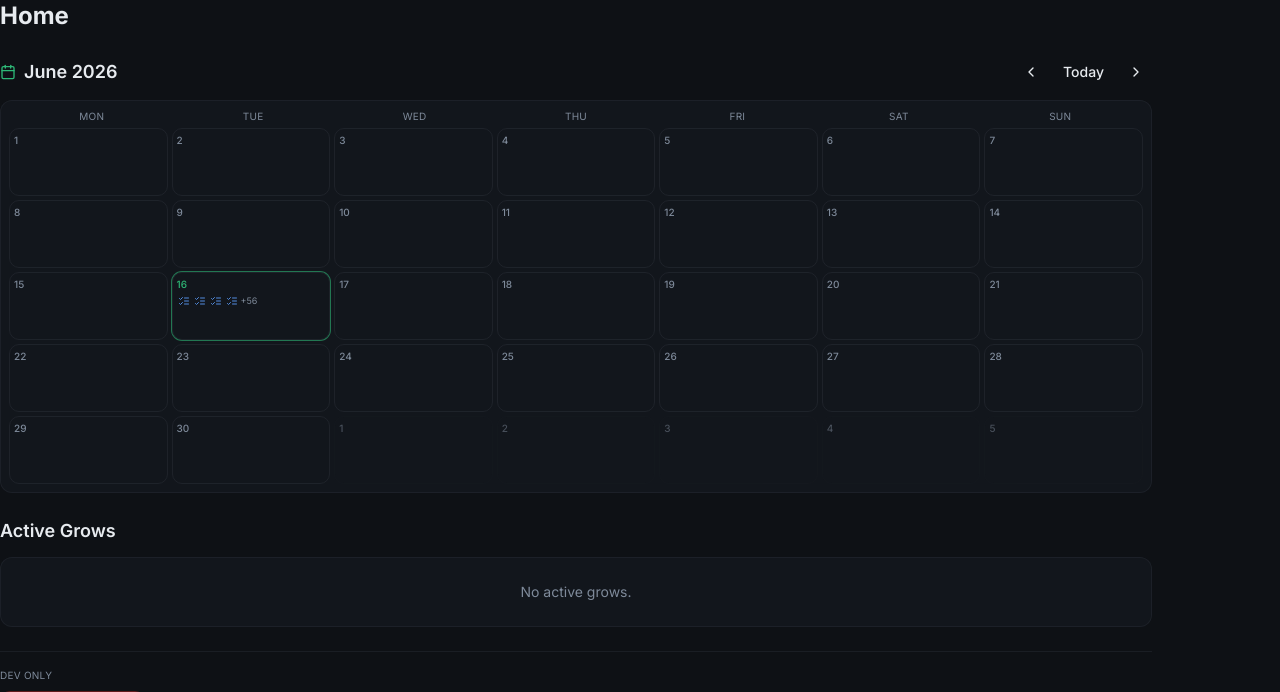
Test: Dashboard day drawer › renders virtualization for large day item counts without crashing
Click the button "16 +56".
click(251, 306)  # box [172,272,330,340]
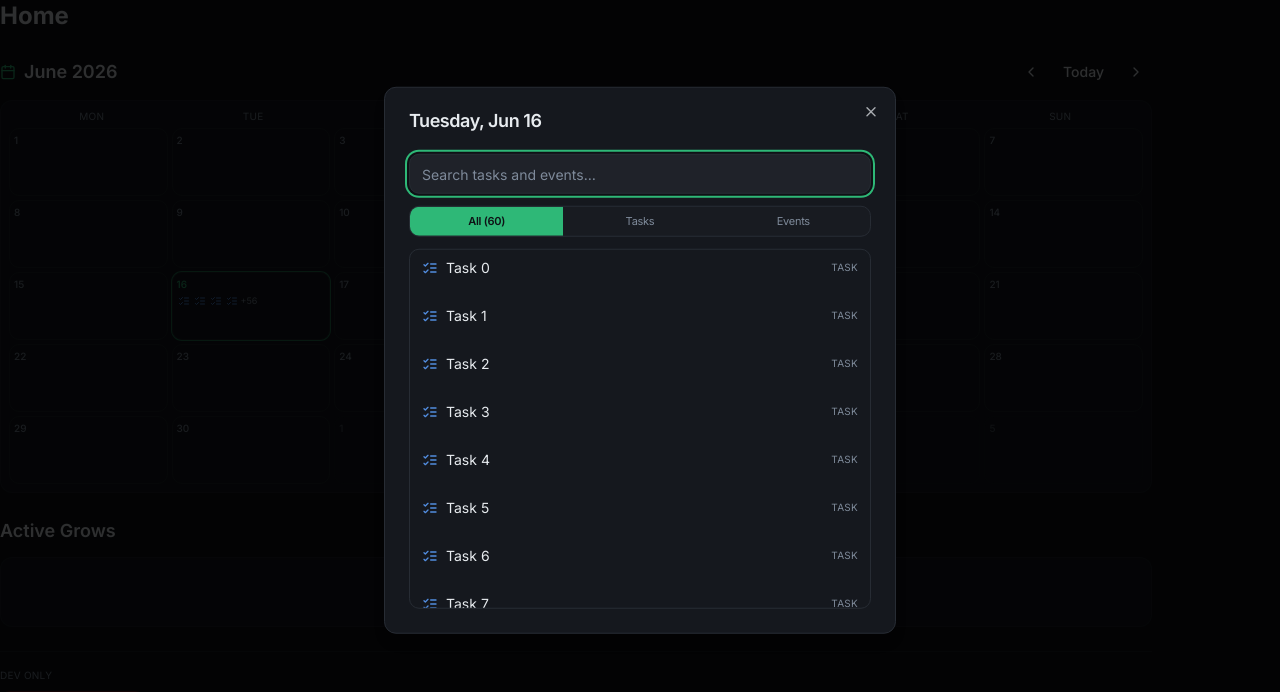
Expected: the tab "All (60)" is shown, [410,207,563,235]
